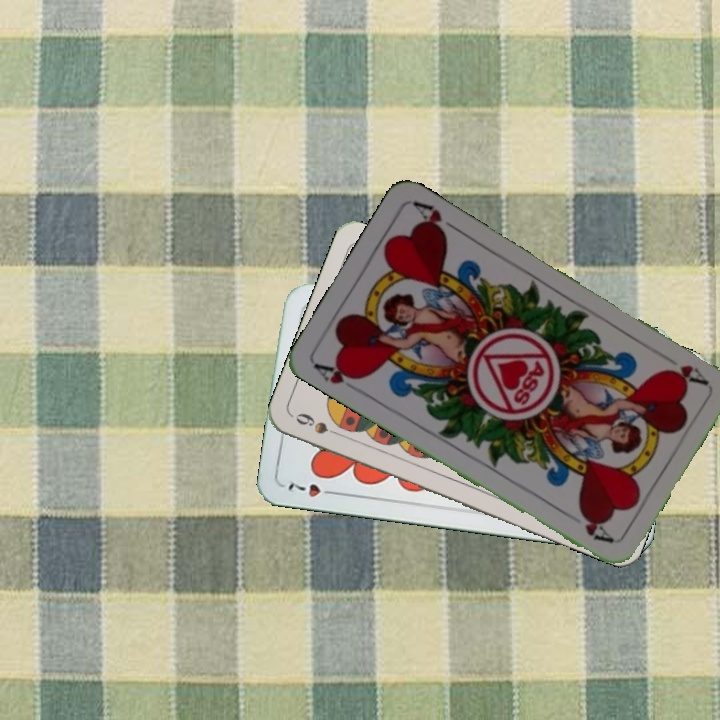H7: (284, 476, 340, 500)
HA: (310, 359, 365, 396), (661, 360, 710, 388)
S9: (291, 409, 347, 440)
